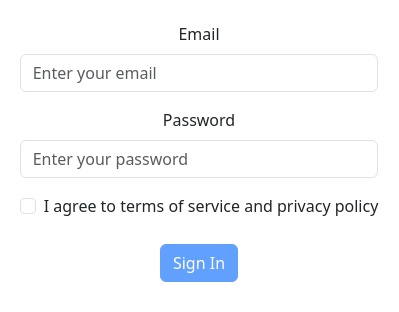
Test case: Login Tests › wrong email
This screenshot has width=399, height=312.
Type "wrong-mail" into the field named "email".
click(200, 73); type("wrong-mail")  # box [20, 54, 379, 92]
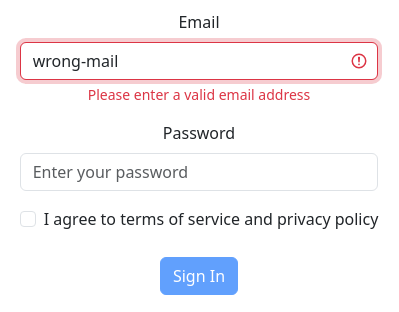
Expected: the button with test id "button" is disabled, [160, 257, 238, 295]
Now the text "Please enter a valid email address" is shown, box [88, 84, 310, 104]
Now the text with test id "email" reads "Please enter a valid email address", box [88, 85, 311, 104]
